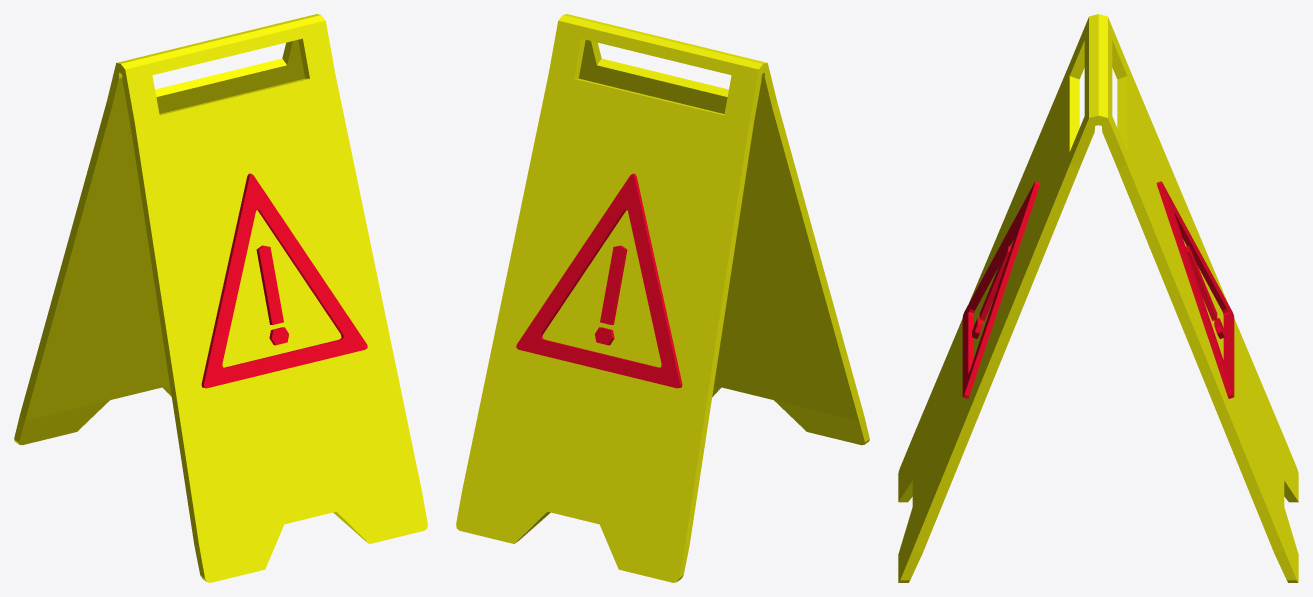
Rendered from Señal_Peligro.fbx.
3 renders of one model, left to right at view 1: azimuth 30°, elevation 25°; view 2: azimuth 150°, elevation 25°; view 3: azimuth 270°, elevation 25°, orthographic. The views are drawn at different scales.
Parts seen in each view (by area): view 1: Señal_Peligro; view 2: Señal_Peligro; view 3: Señal_Peligro.
Part boxes in pixels (x1,y1,x2,y2): Señal_Peligro: (14, 14, 427, 582); Señal_Peligro: (456, 14, 869, 582); Señal_Peligro: (898, 14, 1298, 582).
Bounding box in the file's own units: 25 × 47.91 × 37.5.
